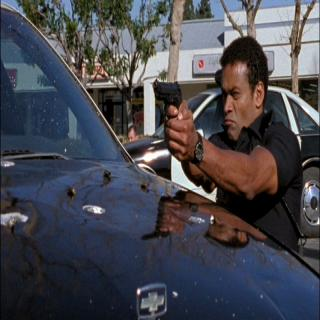gun: (152, 73, 187, 162)
